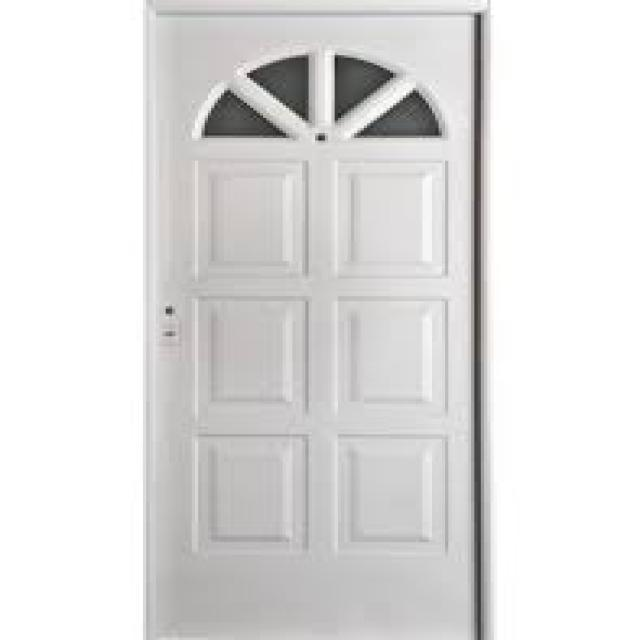door: (143, 1, 484, 639)
